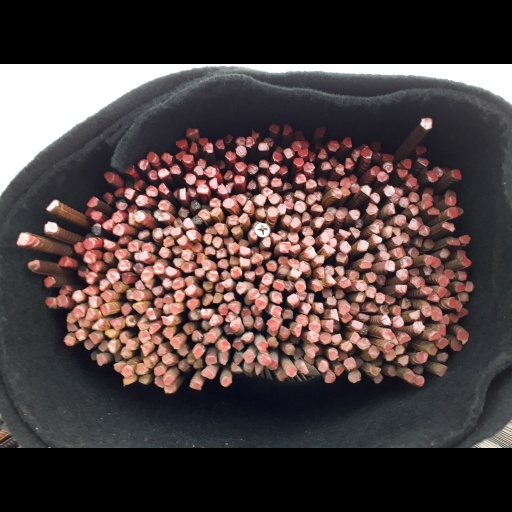dipstick: (322, 307, 341, 321), (456, 327, 470, 345), (336, 299, 351, 315), (105, 268, 121, 283), (131, 301, 149, 314), (216, 350, 230, 366), (192, 343, 206, 359), (160, 352, 176, 366), (110, 316, 126, 330), (88, 295, 104, 309), (45, 199, 61, 213), (110, 209, 126, 223), (169, 302, 186, 315), (424, 169, 439, 183), (411, 321, 426, 335), (201, 366, 216, 380), (148, 319, 162, 334), (70, 289, 85, 303), (26, 258, 41, 272), (391, 245, 407, 258), (208, 313, 224, 326), (199, 307, 215, 320), (170, 277, 186, 290), (137, 314, 150, 330), (334, 275, 351, 287), (91, 318, 108, 330), (88, 331, 105, 343), (327, 139, 341, 153), (396, 268, 410, 282), (343, 356, 357, 370), (338, 240, 352, 254), (335, 206, 349, 220), (310, 278, 324, 292), (271, 278, 285, 292), (229, 265, 243, 279), (140, 342, 154, 356), (140, 268, 154, 282), (72, 305, 86, 319), (44, 220, 58, 234), (450, 336, 463, 351), (364, 284, 377, 299), (310, 216, 325, 229), (206, 269, 221, 282), (188, 378, 203, 391), (186, 297, 201, 310), (184, 284, 199, 297), (138, 329, 151, 344), (134, 194, 149, 207), (84, 271, 99, 284), (82, 250, 97, 263), (112, 221, 125, 236), (440, 221, 456, 233), (398, 256, 414, 268), (391, 214, 407, 226), (215, 339, 231, 351), (83, 284, 99, 296), (87, 260, 103, 272), (266, 317, 283, 328), (120, 272, 137, 283), (235, 144, 248, 158), (407, 217, 420, 231), (435, 364, 448, 378), (357, 337, 371, 350), (326, 347, 339, 361), (323, 369, 336, 383), (320, 318, 334, 331), (382, 203, 396, 216), (294, 278, 307, 292), (278, 324, 291, 338), (256, 340, 269, 354), (229, 362, 243, 375), (227, 241, 240, 255), (294, 199, 307, 213), (267, 192, 281, 205), (256, 174, 270, 187), (241, 200, 255, 213), (235, 193, 249, 206), (222, 196, 235, 210), (178, 358, 191, 372), (182, 321, 195, 335), (185, 274, 199, 287), (162, 325, 175, 339), (169, 337, 183, 350), (141, 356, 155, 369), (161, 276, 174, 290), (157, 182, 170, 196), (127, 239, 141, 252), (65, 311, 79, 324), (98, 278, 112, 291), (43, 275, 57, 288), (445, 235, 460, 247), (431, 306, 443, 321), (386, 348, 398, 363), (347, 370, 362, 382), (330, 332, 342, 347), (321, 243, 336, 255), (289, 322, 301, 337), (258, 354, 273, 366), (255, 297, 267, 312), (230, 316, 242, 331), (227, 301, 242, 313), (159, 315, 177, 325), (117, 259, 132, 271), (364, 301, 380, 312), (181, 261, 197, 272), (117, 235, 133, 246), (160, 152, 173, 165), (293, 129, 306, 142), (341, 135, 354, 148), (294, 172, 307, 185), (458, 233, 471, 246), (439, 246, 452, 259), (415, 350, 428, 363), (379, 313, 392, 326), (306, 330, 319, 343), (308, 320, 321, 333), (346, 268, 359, 281), (322, 274, 335, 287), (383, 259, 396, 272), (348, 225, 361, 238), (335, 206, 348, 219), (269, 291, 282, 304), (247, 287, 260, 300), (235, 281, 248, 294), (287, 231, 300, 244), (185, 228, 198, 241), (201, 293, 214, 306), (172, 289, 185, 302), (145, 184, 158, 197), (133, 210, 146, 223), (125, 287, 138, 300), (118, 330, 131, 343), (119, 346, 132, 359), (135, 362, 148, 375), (95, 353, 108, 366), (113, 185, 126, 198), (319, 159, 333, 171), (334, 163, 346, 177), (419, 117, 433, 129), (396, 167, 408, 181), (457, 291, 471, 303), (427, 291, 441, 303), (410, 275, 422, 289), (368, 365, 382, 377), (368, 345, 380, 359), (335, 252, 349, 264), (355, 239, 369, 251), (365, 203, 379, 215), (303, 246, 317, 258), (287, 292, 299, 306), (293, 347, 305, 361), (296, 361, 308, 375), (261, 272, 273, 286), (250, 252, 264, 264), (276, 241, 290, 253), (288, 244, 302, 256), (198, 207, 210, 221), (176, 206, 190, 218), (176, 344, 190, 356), (163, 373, 175, 387), (151, 285, 165, 297), (157, 199, 171, 211), (123, 375, 137, 387), (121, 365, 135, 377), (75, 328, 87, 342), (82, 237, 96, 249), (18, 231, 30, 245), (338, 312, 353, 323), (253, 316, 264, 331), (252, 194, 267, 205), (187, 309, 202, 320), (158, 247, 173, 258), (57, 255, 72, 266), (114, 248, 129, 259), (357, 258, 373, 268), (208, 197, 224, 207), (157, 212, 173, 222), (86, 196, 99, 208), (102, 171, 115, 183), (202, 142, 214, 155), (223, 150, 236, 162), (184, 172, 196, 185), (215, 183, 228, 195), (282, 146, 295, 158), (328, 154, 341, 166), (246, 163, 259, 175), (360, 147, 372, 160), (369, 139, 381, 152), (408, 190, 420, 203), (407, 204, 420, 216), (436, 286, 449, 298), (436, 337, 449, 349), (381, 340, 394, 352), (381, 328, 394, 340), (340, 340, 353, 352), (333, 364, 346, 376), (320, 331, 332, 344), (305, 346, 317, 359), (354, 291, 366, 304), (375, 273, 387, 286), (354, 279, 367, 291), (381, 225, 393, 238), (312, 301, 324, 314), (299, 302, 311, 315), (295, 314, 308, 326), (322, 212, 335, 224), (312, 253, 325, 265), (298, 260, 310, 273), (283, 343, 296, 355), (277, 369, 289, 382), (266, 336, 279, 348), (219, 376, 232, 388), (241, 331, 254, 343), (282, 280, 295, 292), (277, 264, 290, 276), (223, 323, 236, 335), (280, 214, 293, 226), (275, 202, 287, 215), (293, 189, 306, 201), (226, 214, 239, 226), (213, 222, 226, 234), (182, 217, 195, 229), (191, 329, 203, 342), (155, 344, 168, 356), (153, 375, 165, 388), (162, 291, 174, 304), (153, 262, 165, 275), (145, 169, 158, 181), (133, 178, 145, 191), (141, 241, 154, 253), (137, 228, 150, 240), (132, 261, 144, 274), (144, 277, 156, 290), (120, 302, 132, 315), (125, 314, 137, 327), (125, 339, 138, 351), (100, 290, 113, 302), (77, 265, 90, 277), (56, 294, 69, 306), (102, 218, 115, 230), (102, 192, 114, 205), (232, 174, 246, 185), (257, 140, 271, 151), (416, 156, 430, 167), (383, 183, 394, 197), (451, 167, 462, 181), (437, 314, 451, 325), (375, 291, 386, 305), (349, 319, 363, 330), (349, 302, 360, 316), (363, 272, 377, 283), (369, 233, 383, 244), (367, 223, 381, 234), (285, 364, 296, 378), (258, 281, 269, 295), (269, 177, 283, 188), (212, 235, 223, 249), (215, 258, 229, 269), (138, 374, 152, 385), (77, 317, 91, 328), (102, 238, 116, 249), (90, 222, 101, 236), (282, 122, 292, 137), (301, 235, 316, 245), (189, 242, 204, 252), (169, 163, 181, 175), (204, 165, 216, 177), (244, 136, 256, 148), (317, 147, 329, 159), (381, 161, 393, 173), (369, 164, 381, 176), (377, 170, 389, 182), (398, 196, 410, 208), (360, 184, 372, 196), (417, 200, 433, 209), (418, 225, 430, 237), (448, 311, 460, 323), (421, 264, 433, 276), (400, 297, 412, 309), (403, 371, 415, 383), (386, 365, 398, 377), (398, 354, 410, 366), (372, 372, 384, 384), (349, 331, 361, 343), (318, 360, 330, 372), (349, 208, 361, 220), (242, 350, 254, 362), (270, 305, 282, 317), (288, 257, 300, 269), (265, 260, 277, 272), (223, 290, 235, 302), (254, 264, 266, 276), (276, 229, 288, 241), (212, 292, 224, 304), (173, 256, 185, 268), (152, 296, 164, 308), (163, 236, 175, 248), (170, 226, 182, 238), (123, 178, 135, 190), (132, 290, 144, 302), (133, 279, 145, 291), (112, 281, 124, 293), (59, 283, 71, 295), (137, 159, 150, 170), (175, 150, 188, 161), (234, 161, 247, 172), (314, 126, 327, 137), (315, 175, 328, 186), (304, 178, 317, 189), (399, 158, 412, 169), (381, 152, 394, 163), (406, 176, 417, 189), (443, 268, 456, 279), (453, 281, 466, 292), (457, 307, 470, 318), (431, 256, 442, 269), (408, 309, 421, 320), (412, 364, 425, 375), (321, 287, 334, 298), (313, 266, 324, 279), (304, 194, 317, 205), (281, 309, 294, 320), (232, 351, 243, 364), (231, 340, 244, 351), (238, 256, 251, 267), (237, 236, 250, 247), (266, 206, 279, 217), (301, 210, 312, 223), (237, 213, 250, 224), (214, 280, 225, 293), (206, 331, 217, 344), (192, 358, 205, 369), (146, 308, 157, 321), (124, 187, 135, 200), (152, 227, 163, 240), (85, 308, 96, 321), (214, 159, 228, 169), (296, 148, 310, 158), (443, 189, 457, 199), (443, 196, 457, 206), (465, 279, 475, 293), (407, 247, 421, 257), (428, 330, 442, 340), (357, 312, 371, 322), (377, 250, 391, 260), (254, 362, 264, 376), (225, 311, 239, 321), (218, 302, 228, 316), (221, 279, 235, 289), (300, 226, 314, 236), (248, 227, 258, 241), (218, 268, 232, 278), (204, 225, 218, 235), (203, 245, 217, 255), (163, 384, 177, 394), (115, 199, 129, 209), (213, 139, 225, 150), (197, 183, 209, 194), (222, 169, 233, 181), (234, 135, 246, 146), (268, 123, 280, 134), (298, 139, 310, 150), (257, 158, 269, 169), (271, 151, 283, 162), (303, 161, 314, 173), (344, 157, 355, 169), (330, 187, 341, 199), (350, 148, 361, 160), (393, 186, 405, 197), (340, 176, 351, 188), (349, 182, 361, 193), (369, 192, 381, 203), (388, 192, 400, 203), (423, 238, 435, 249), (456, 268, 467, 280), (421, 305, 432, 317), (421, 284, 433, 295), (436, 352, 448, 363), (399, 333, 411, 344), (371, 355, 383, 366), (393, 315, 404, 327), (391, 304, 402, 316), (385, 294, 397, 305), (318, 231, 329, 243), (266, 360, 278, 371), (267, 326, 279, 337), (242, 361, 254, 372), (250, 304, 262, 315), (241, 306, 252, 318), (242, 315, 253, 327), (243, 270, 255, 281), (270, 231, 282, 242), (290, 217, 301, 229), (283, 191, 295, 202), (246, 179, 258, 190), (255, 206, 266, 218), (196, 251, 207, 263), (202, 280, 214, 291), (194, 267, 206, 278), (181, 249, 193, 260), (176, 234, 188, 245), (172, 216, 183, 228), (187, 185, 198, 197), (66, 321, 78, 332), (99, 303, 110, 315), (45, 296, 56, 308), (102, 251, 114, 262), (73, 241, 84, 253), (89, 210, 102, 220), (181, 154, 194, 164), (175, 138, 188, 148), (208, 176, 218, 189), (267, 163, 280, 173), (427, 206, 440, 216), (408, 267, 421, 277), (437, 323, 447, 336), (427, 342, 437, 355), (376, 242, 389, 252), (338, 228, 351, 238), (289, 268, 302, 278), (277, 255, 290, 265), (204, 355, 217, 365), (282, 199, 295, 209), (230, 225, 243, 235), (210, 206, 223, 216), (200, 320, 213, 330), (187, 351, 197, 364), (165, 266, 178, 276), (157, 167, 170, 177), (108, 340, 118, 353), (63, 334, 76, 344), (185, 127, 199, 136), (421, 193, 435, 202), (394, 284, 408, 293), (310, 203, 324, 212), (104, 329, 118, 338), (291, 140, 302, 151), (278, 164, 289, 175), (447, 207, 458, 218), (434, 264, 445, 275), (421, 254, 432, 265), (334, 265, 345, 276), (391, 225, 402, 236), (374, 218, 385, 229), (295, 290, 306, 301), (340, 185, 351, 196), (201, 259, 212, 270), (112, 351, 123, 362), (98, 340, 109, 351), (146, 151, 156, 163), (306, 150, 316, 162), (460, 257, 472, 267), (413, 235, 423, 247), (415, 375, 425, 387), (389, 333, 399, 345), (380, 303, 390, 315), (354, 356, 364, 368), (323, 265, 335, 275), (363, 252, 375, 262), (391, 235, 403, 245), (260, 249, 272, 259), (261, 236, 271, 248), (239, 245, 251, 255), (229, 255, 241, 265), (215, 248, 227, 258), (191, 214, 203, 224), (153, 365, 165, 375), (84, 338, 94, 350), (415, 145, 428, 154), (306, 291, 315, 304), (177, 187, 186, 200), (114, 363, 127, 372), (193, 165, 203, 176), (196, 157, 206, 168), (263, 135, 273, 146), (293, 157, 304, 167), (371, 151, 382, 161), (432, 166, 443, 176), (456, 249, 467, 259), (395, 344, 405, 355), (359, 324, 369, 335), (334, 288, 344, 299), (401, 232, 411, 243), (313, 191, 323, 202), (290, 334, 301, 344), (190, 199, 200, 210), (202, 233, 212, 244), (171, 245, 182, 255), (124, 164, 135, 174), (153, 209, 164, 219), (163, 225, 173, 236), (138, 250, 149, 260), (197, 137, 209, 146), (422, 186, 434, 195), (447, 297, 456, 309), (314, 345, 323, 357), (325, 206, 337, 215), (281, 181, 293, 190), (149, 334, 161, 343), (260, 187, 273, 195), (250, 130, 260, 140), (348, 173, 358, 183), (326, 296, 336, 306), (222, 134, 233, 143), (332, 319, 341, 330), (354, 217, 363, 228), (328, 236, 337, 247), (324, 228, 335, 237), (290, 211, 301, 220), (161, 303, 170, 314), (194, 178, 206, 186), (327, 180, 339, 188), (242, 191, 254, 199), (455, 299, 462, 312), (223, 237, 236, 244), (415, 215, 424, 225), (251, 245, 261, 254), (358, 142, 369, 150), (251, 220, 263, 227), (315, 140, 324, 149), (457, 205, 464, 216), (274, 145, 283, 153), (442, 166, 451, 174), (230, 193, 238, 202), (90, 351, 98, 360), (200, 204, 210, 211), (404, 172, 413, 179)
